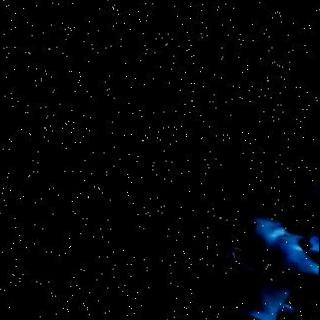smoke: (313, 152, 320, 272)
